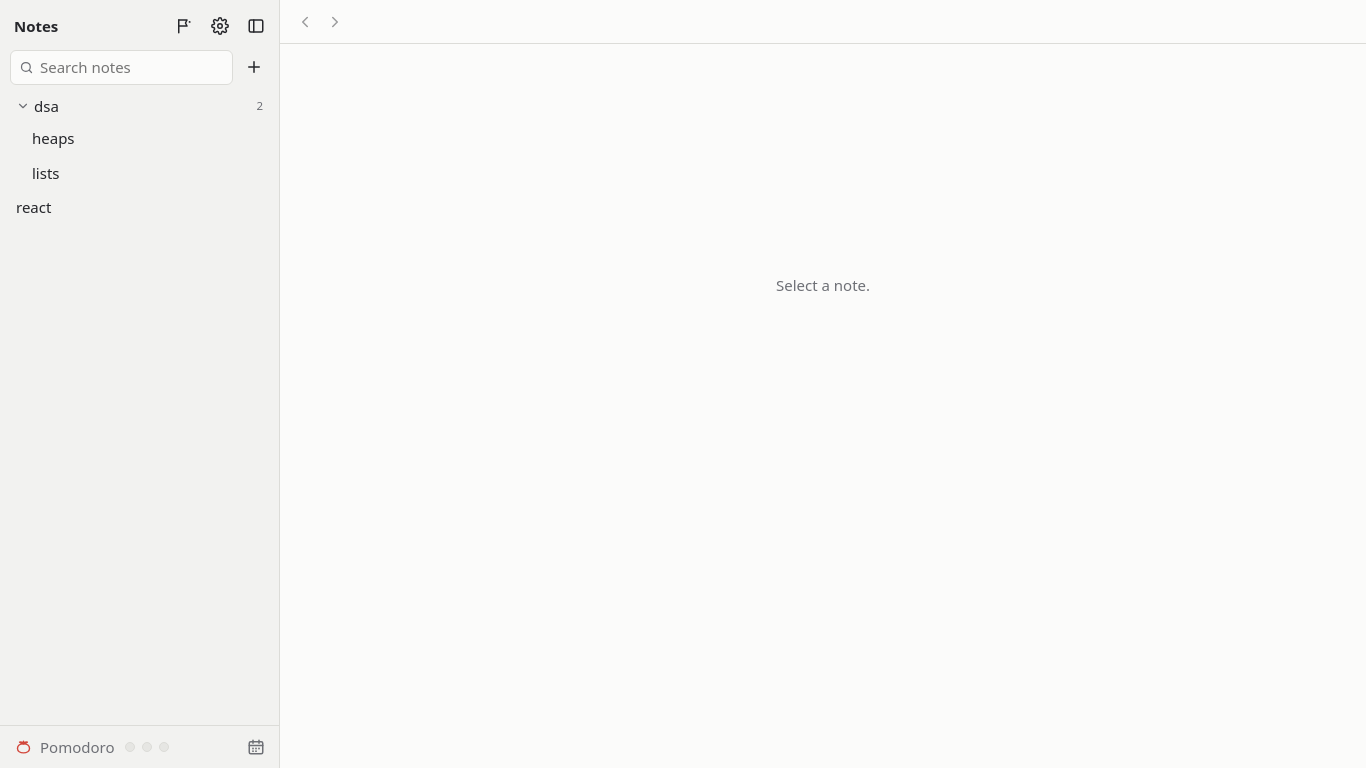
Scenario: study activity heatmap › opens from the sidebar with the last 26 weeks, totals and streak
The image size is (1366, 768).
Click the button named "Study activity". click: {"x": 256, "y": 747}
box: [241,732,271,762]
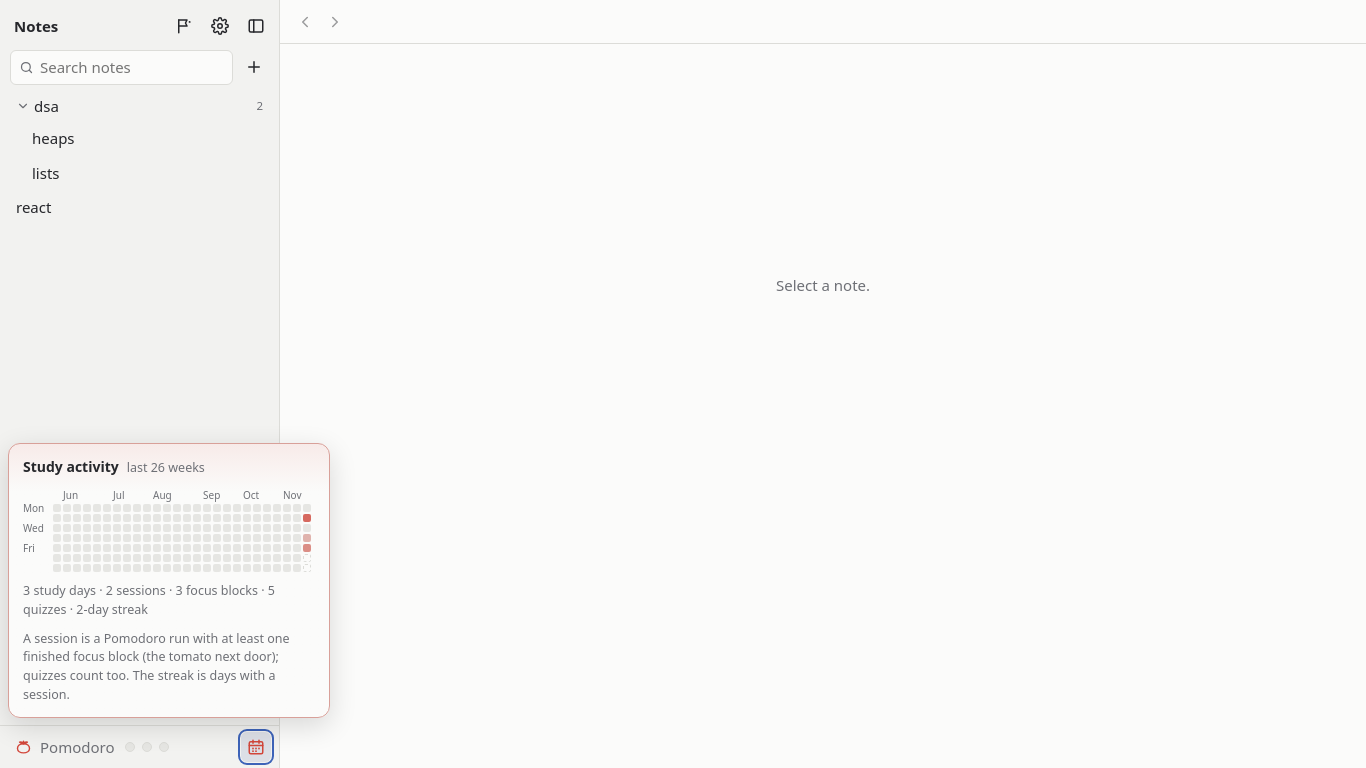
Check: the dialog "Study activity" shows "3 study days · 2 sessions · 3 focus blocks · 5 quizzes · 2-day streak", box [8,443,330,718]
Check: the number of elements with class "cell" is 182
Check: the number of elements with class "cell" is 1, box [303,544,311,552]
Press Escape
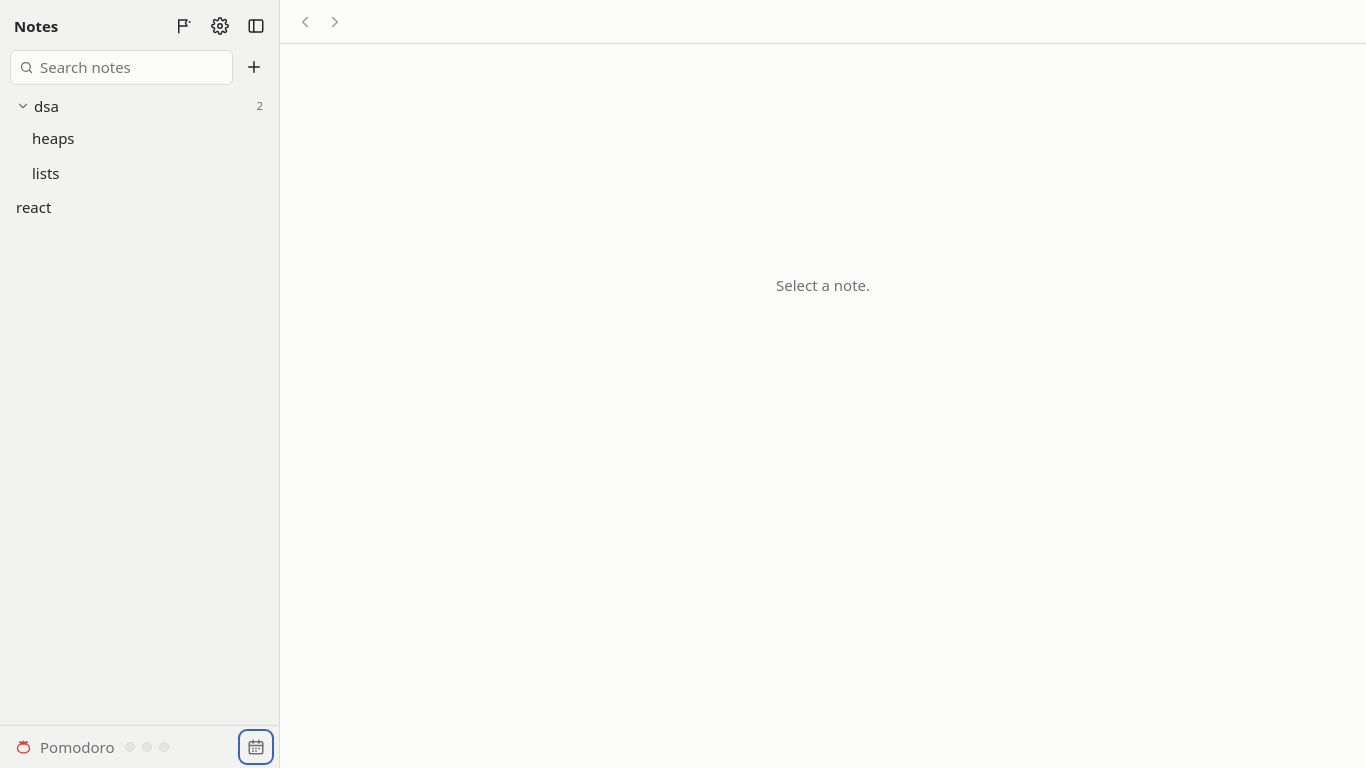
Check: the dialog is gone
